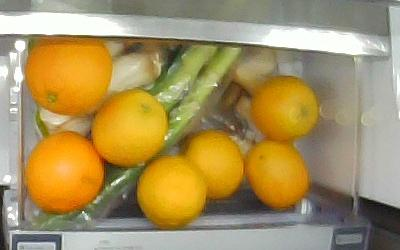orange: (24, 35, 112, 118), (24, 132, 103, 213), (92, 89, 167, 166), (137, 157, 206, 228), (179, 130, 244, 200), (245, 140, 311, 208), (251, 76, 319, 139)
